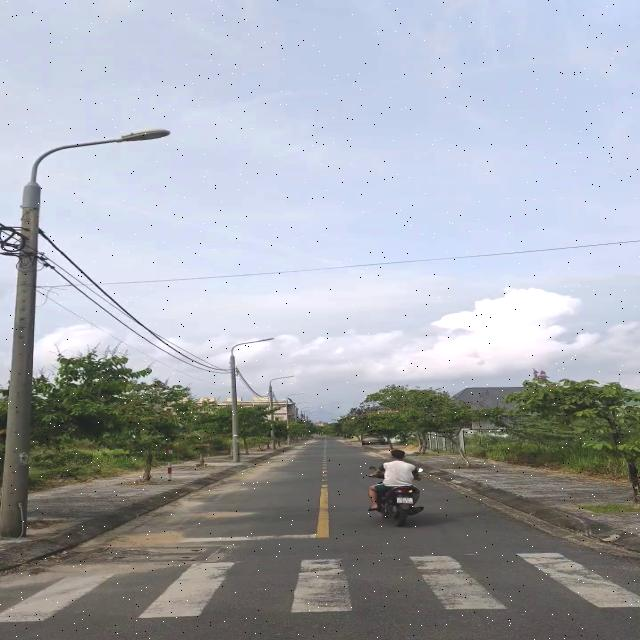no_helmet: (388, 450, 408, 459)
